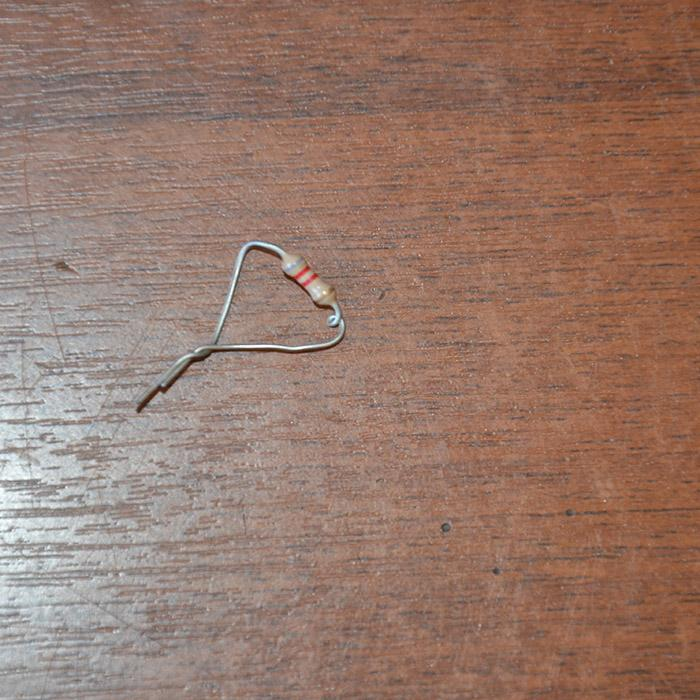resistor: (279, 252, 336, 311)
